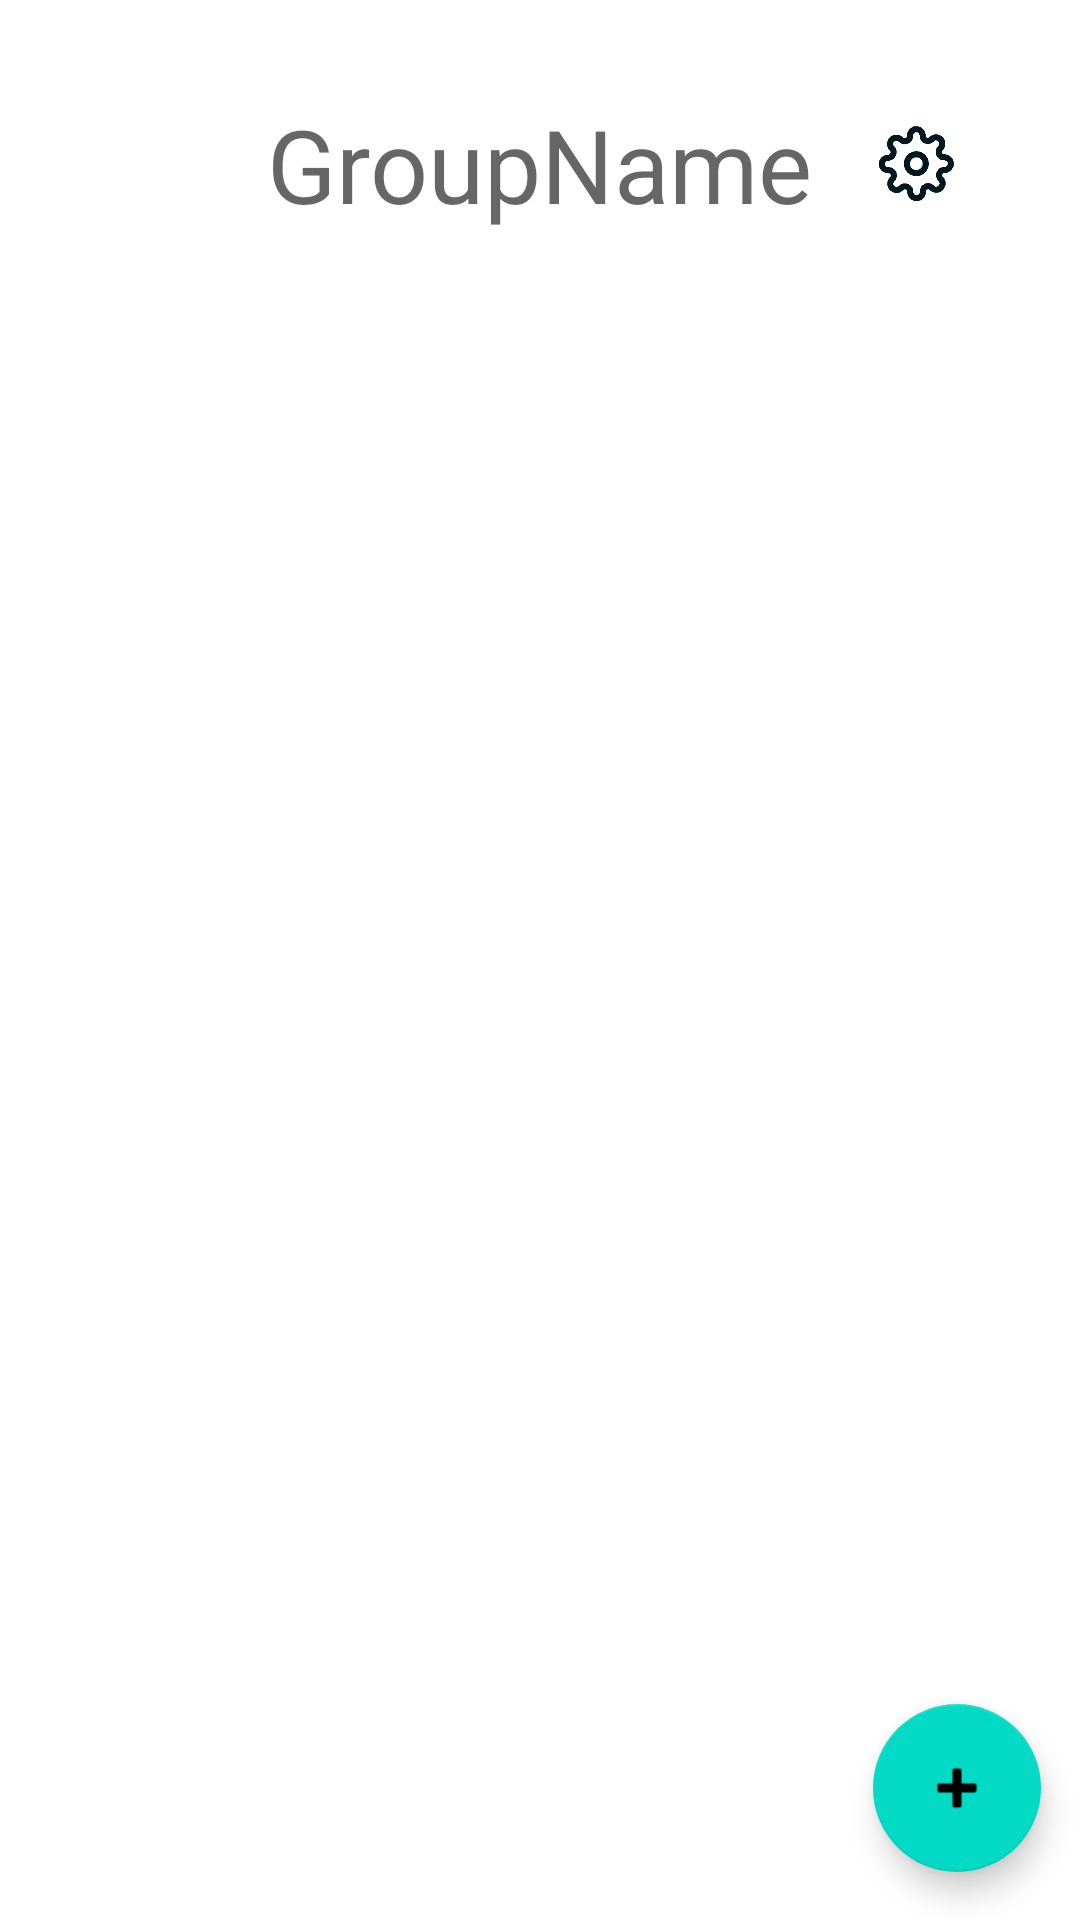

Screen size 1080 × 1920. Icon name, then its center in pixels as [x,y]:
Creates a new group: [957,1788]
Show group options: [916,163]
